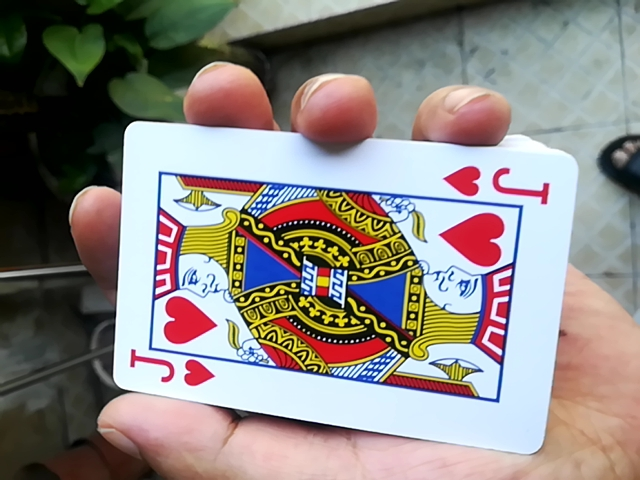hx j: (99, 116, 578, 452)
